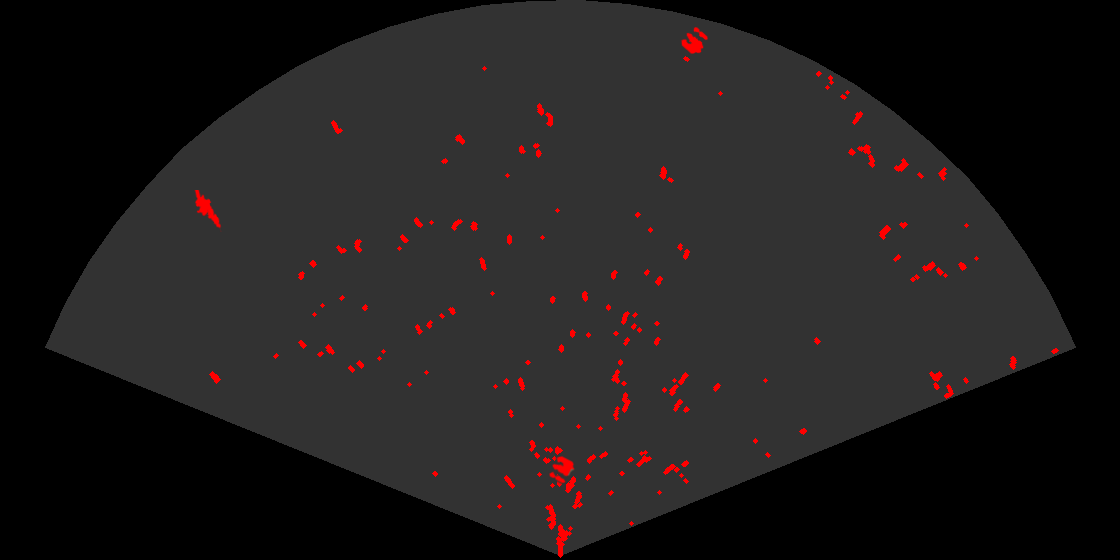ball: (679, 25, 709, 56), (547, 454, 576, 485)
frogman: (193, 190, 223, 232)
